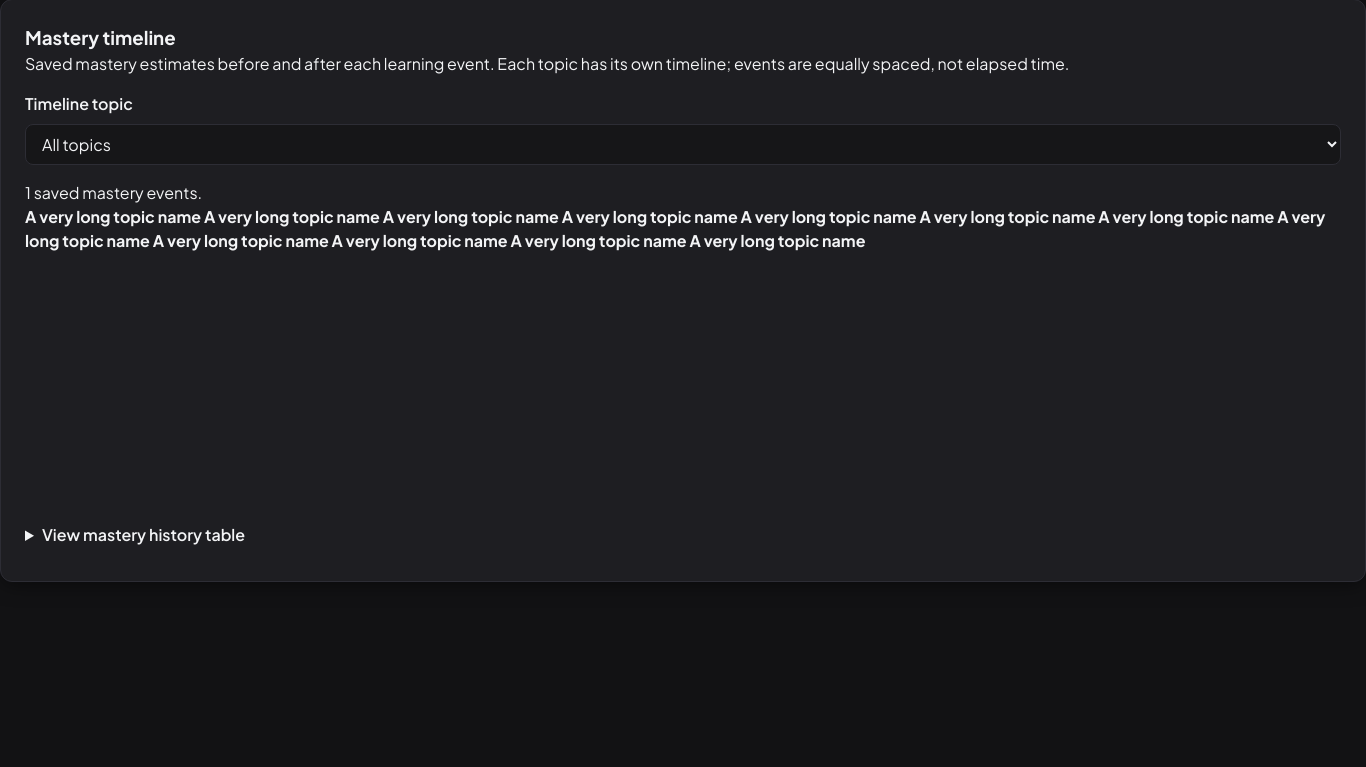
Test: mastery history table layout regressions › provides a keyboard-focusable named scroll region around all five columns
The width and height of the screenshot is (1366, 767).
expect the text "1 saved mastery events." is shown: met, box [25,182,202,203]
Click the heading "View mastery history table" at point(143, 535), box [42,524,245,545]
(page scrolled)
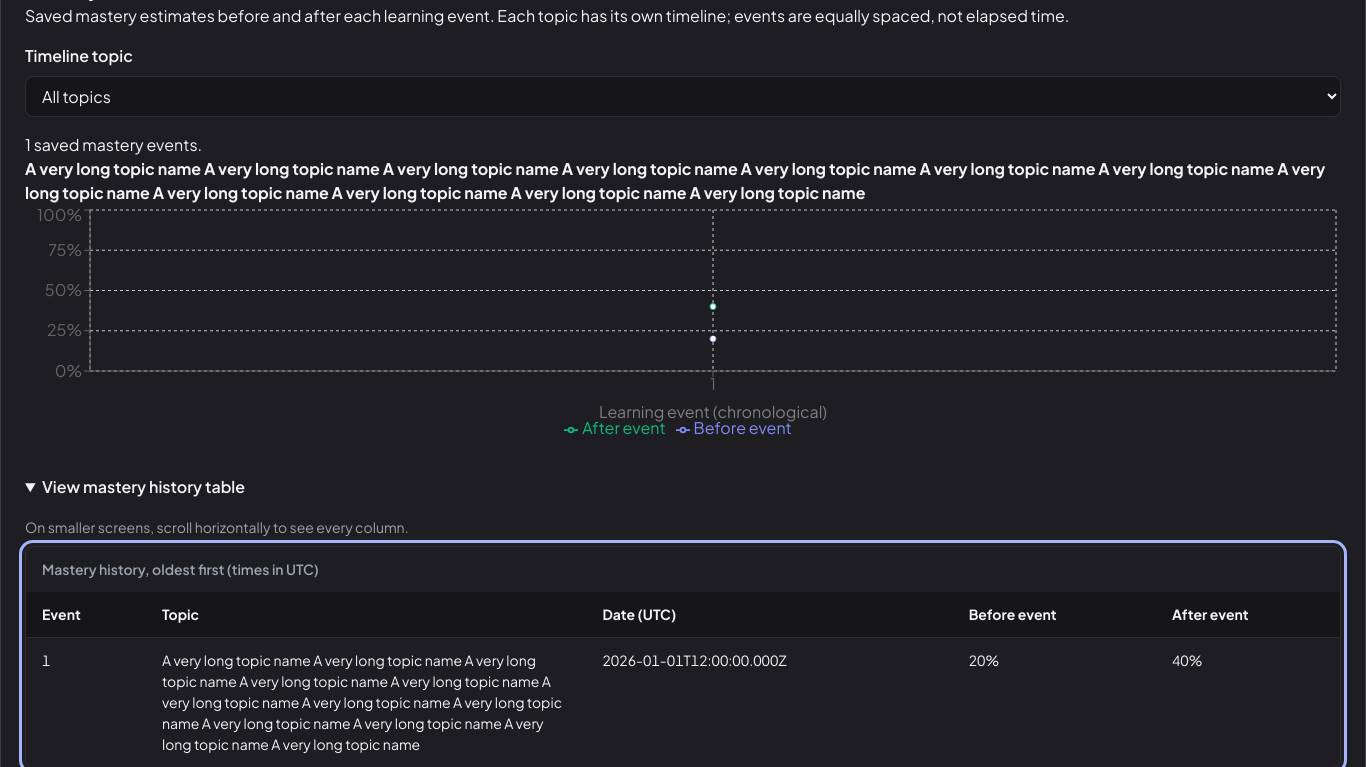
expect the column headings read "Event", "Topic", "Date (UTC)", "Before event", "After event", in this order: met, box [26,592,146,638]; [146,592,586,638]; [586,592,953,638]; [953,592,1156,638]; [1156,592,1340,638]
expect the number of cells is 5: met, box [26,638,146,766]; [146,638,586,766]; [586,638,953,766]; [953,638,1156,766]; [1156,638,1340,766]
